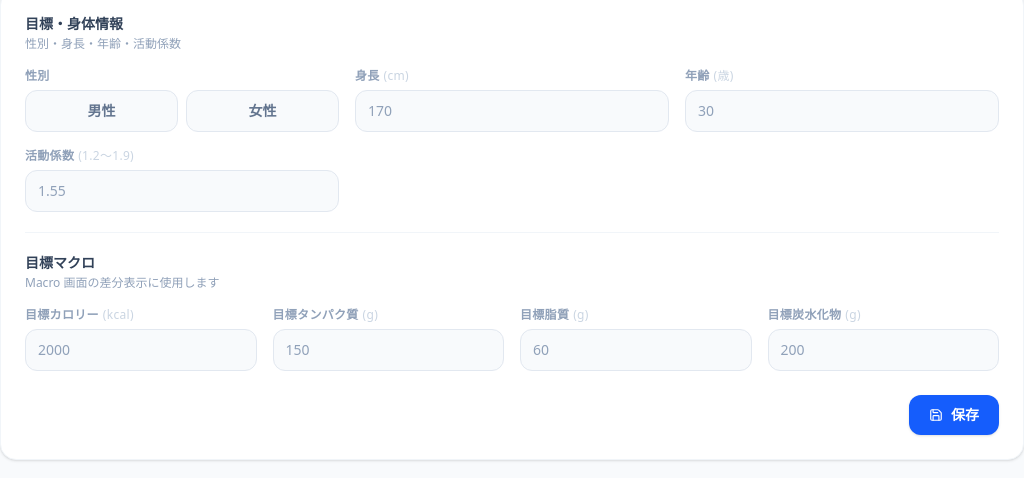
Test: SettingsForm — 保存成功 › 保存ボタンをクリックすると saveSettings が呼ばれ「保存しました」が表示される
The image size is (1024, 478).
保存ボタンをクリックする
Click the button "保存" at [954, 415], box [909,395,999,435]
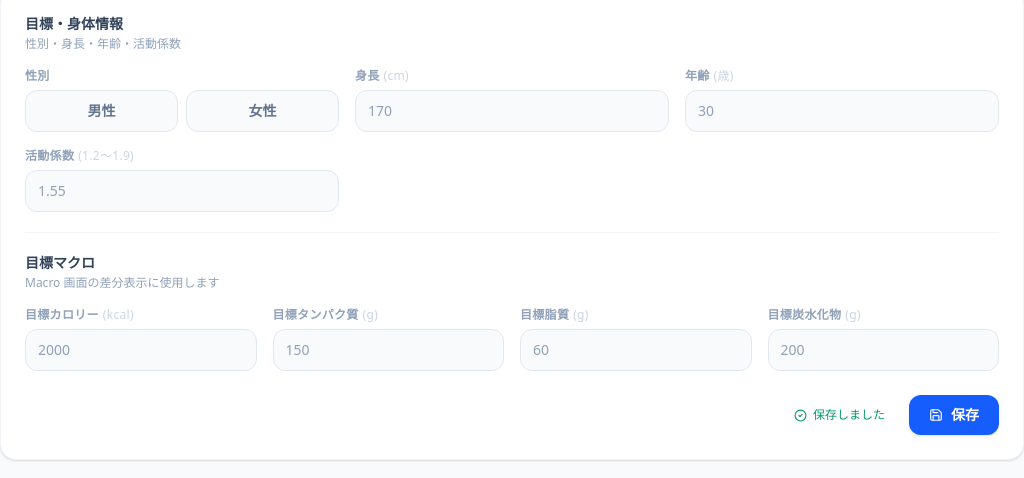
Now the text "保存しました" is shown, box [794,407,885,423]
